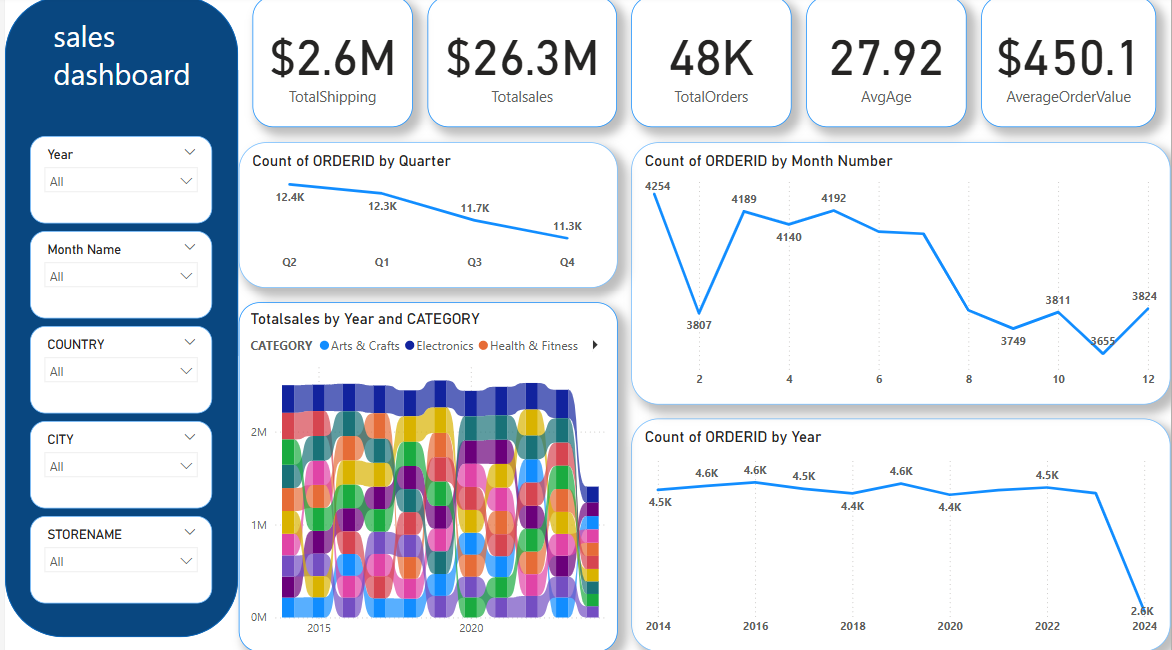

This screenshot's page, from the dashboard's own definition file:
{"tool":"powerbi","page":{"name":"sales by time","canvas":[1280,720],"ordinal":0},"visuals":[{"type":"lineChart","fields":{"Category":["DimDates.Year"],"Y":["CountNonNull(FACT.ORDERID)"]},"box":[688,464,592,256],"z":0},{"type":"shape","box":[0,0,256,704],"z":1000},{"type":"card","fields":{"Values":["Table.Measure"]},"box":[464,0,208,144],"z":2000},{"type":"ribbonChart","fields":{"Category":["DimDates.Year"],"Y":["Table.#orderAmount"],"Series":["DIMPRODUCTDATA.CATEGORY"]},"box":[256,336,416,384],"z":3000},{"type":"lineChart","fields":{"Category":["DimDates.Month Number"],"Y":["CountNonNull(FACT.ORDERID)"]},"box":[688,160,592,288],"z":4000},{"type":"card","fields":{"Values":["Table.TotalOrders"]},"box":[688,0,176,144],"z":5000},{"type":"card","fields":{"Values":["Table.AvgAge"]},"box":[880,0,176,144],"z":6000},{"type":"card","fields":{"Values":["Table.AverageOrderValue"]},"box":[1072,0,192,144],"z":7000},{"type":"card","fields":{"Values":["Table.TotalShipping"]},"box":[272,0,176,144],"z":8000},{"type":"textbox","box":[48,16,176,96],"z":9000},{"type":"slicer","fields":{"Values":["DimDates.Year"]},"box":[27.4,153.8,200,96],"z":10000},{"type":"slicer","fields":{"Values":["DIMSTOREDATA.COUNTRY"]},"box":[27.4,362.4,200,96],"z":11000},{"type":"slicer","fields":{"Values":["DIMSTOREDATA.CITY"]},"box":[27.4,466.6,200,96],"z":12000},{"type":"slicer","fields":{"Values":["DIMSTOREDATA.STORENAME"]},"box":[27.4,570.9,200,96],"z":13000},{"type":"slicer","fields":{"Values":["DimDates.Month Name"]},"box":[27.4,258.1,200,96],"z":14000},{"type":"lineChart","fields":{"Category":["DimDates.Quarter"],"Y":["CountNonNull(FACT.ORDERID)"]},"box":[256,160,416,160],"z":15000}]}

Visuals, with their boxes in screenshot pixels (x1, y1, x2, y2), scaled from the page's 1280x720 canvas onto the 1172x650 screenshot:
lineChart - DimDates.Year x CountNonNull(FACT.ORDERID): {"x1": 630, "y1": 419, "x2": 1171, "y2": 649}
shape: {"x1": 0, "y1": 0, "x2": 234, "y2": 636}
card - Table.Measure: {"x1": 425, "y1": 0, "x2": 615, "y2": 130}
ribbonChart - DimDates.Year x Table.#orderAmount: {"x1": 234, "y1": 303, "x2": 615, "y2": 649}
lineChart - DimDates.Month Number x CountNonNull(FACT.ORDERID): {"x1": 630, "y1": 144, "x2": 1171, "y2": 404}
card - Table.TotalOrders: {"x1": 630, "y1": 0, "x2": 791, "y2": 130}
card - Table.AvgAge: {"x1": 806, "y1": 0, "x2": 967, "y2": 130}
card - Table.AverageOrderValue: {"x1": 982, "y1": 0, "x2": 1157, "y2": 130}
card - Table.TotalShipping: {"x1": 249, "y1": 0, "x2": 410, "y2": 130}
textbox: {"x1": 44, "y1": 14, "x2": 205, "y2": 101}
slicer - DimDates.Year: {"x1": 25, "y1": 139, "x2": 208, "y2": 226}
slicer - DIMSTOREDATA.COUNTRY: {"x1": 25, "y1": 327, "x2": 208, "y2": 414}
slicer - DIMSTOREDATA.CITY: {"x1": 25, "y1": 421, "x2": 208, "y2": 508}
slicer - DIMSTOREDATA.STORENAME: {"x1": 25, "y1": 515, "x2": 208, "y2": 602}
slicer - DimDates.Month Name: {"x1": 25, "y1": 233, "x2": 208, "y2": 320}
lineChart - DimDates.Quarter x CountNonNull(FACT.ORDERID): {"x1": 234, "y1": 144, "x2": 615, "y2": 289}
